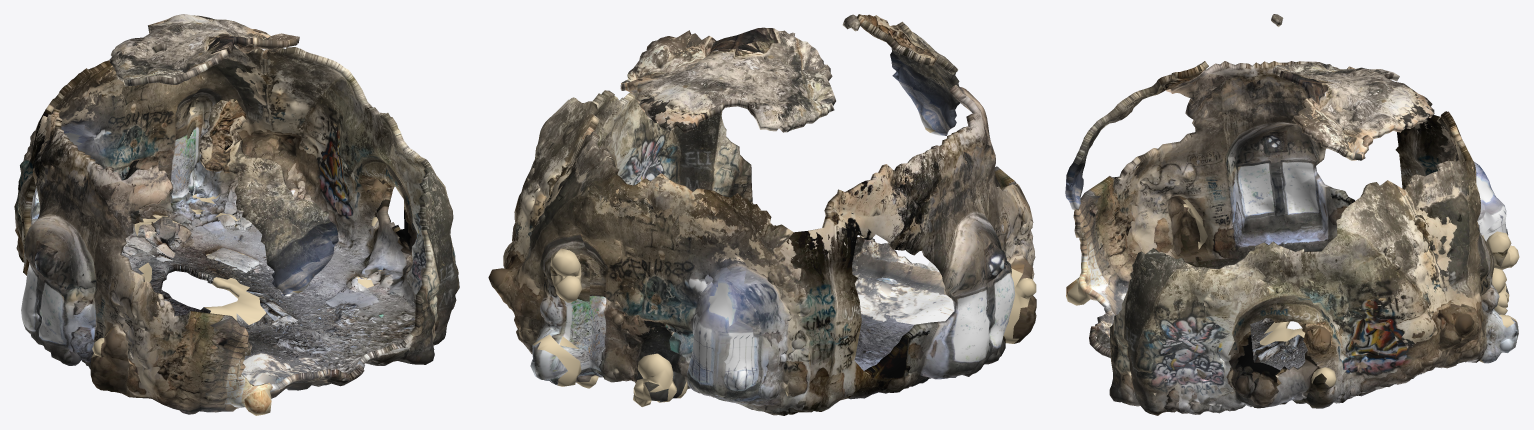
Rendered from LiftaInsideF.fbx.
3 renders of one model, left to right at view 1: azimuth 30°, elevation 25°; view 2: azimuth 150°, elevation 25°; view 3: azimuth 270°, elevation 25°, orthographic. The views are drawn at different scales.
Parts seen in each view (by area): view 1: model; view 2: model; view 3: model.
Boxes of the visible parts, box(x1,y1,x2,y2) form: model: box(14, 14, 459, 415); model: box(488, 14, 1036, 415); model: box(1065, 14, 1519, 415).
Bounding box in the file's own units: 282 × 217 × 295.
